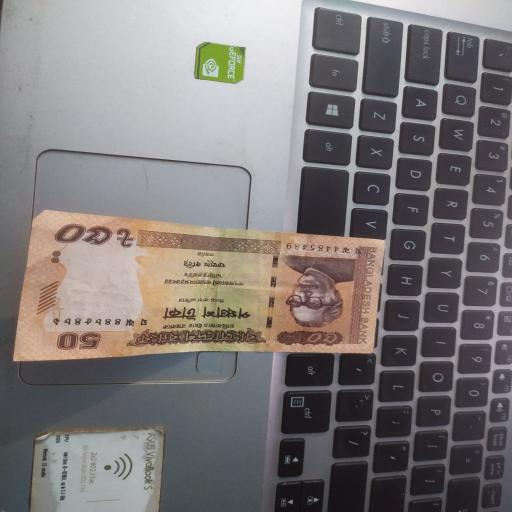50taka: (13, 211, 389, 367)
